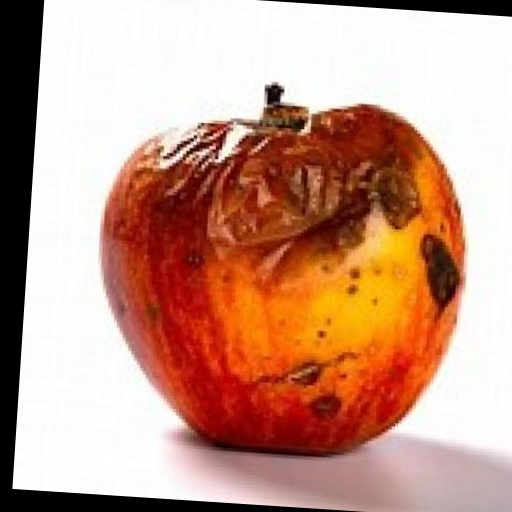fruit: (102, 85, 464, 453)
